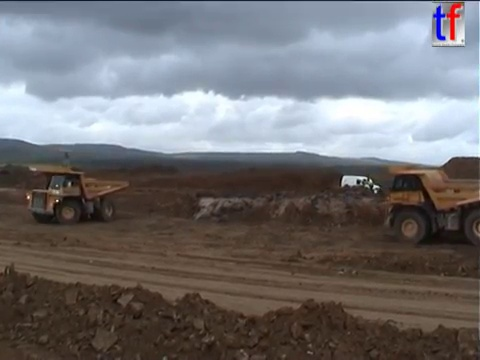truck: (378, 162, 480, 246), (24, 163, 128, 224)
worker: (366, 176, 378, 198), (360, 177, 369, 196)
